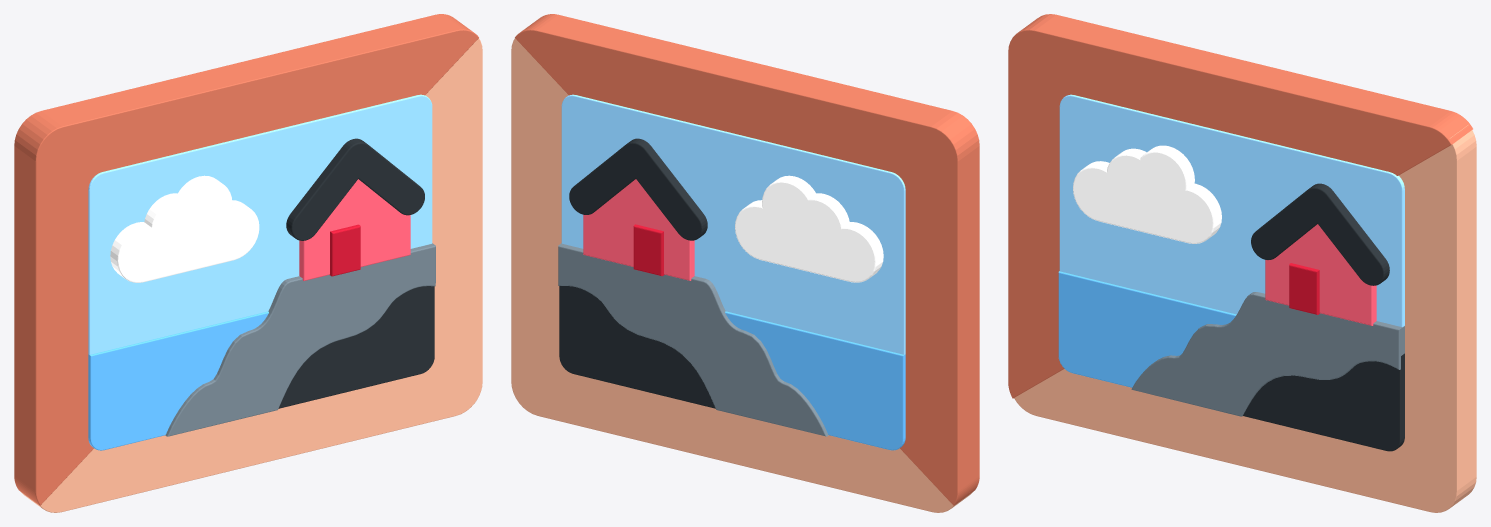
The model's file is picture.glb.
3 views of the same model, side by side, from view 1: azimuth 30°, elevation 25°; view 2: azimuth 150°, elevation 25°; view 3: azimuth 330°, elevation 25° (orthographic).
Visible parts, largest first — view 1: FlatEmoji; view 2: FlatEmoji; view 3: FlatEmoji.
Part boxes in pixels (left/top/right/bottom): FlatEmoji: left=14, top=14, right=482, bottom=512; FlatEmoji: left=511, top=14, right=979, bottom=512; FlatEmoji: left=1008, top=14, right=1476, bottom=512.
Size of the model in its own units: 3.25 by 2.68 by 0.4955.
